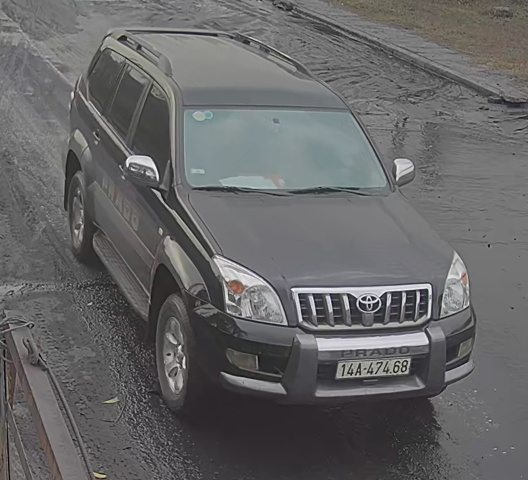vehicle plate: (333, 355, 417, 381)
